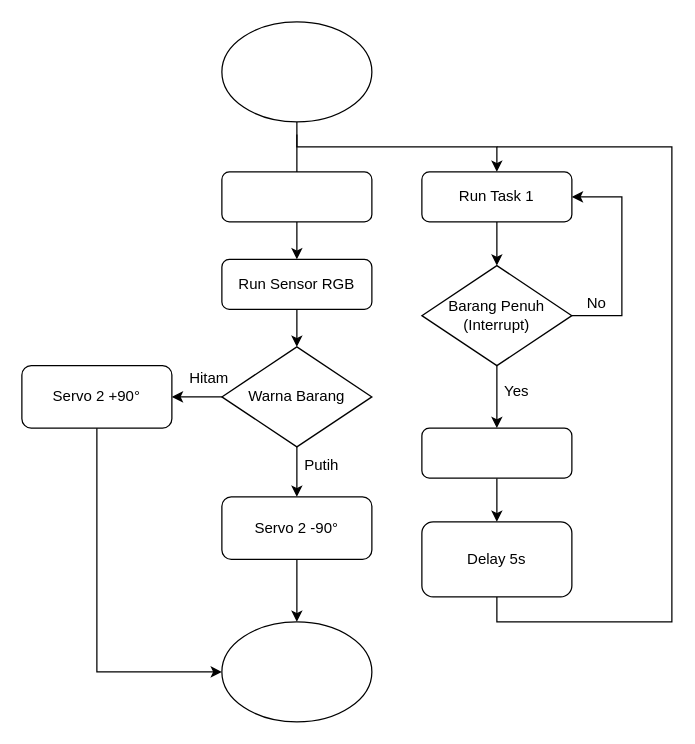
Image size: 695x744. Some labels were removed from this diagram. Here are the shapes that lost their labels. From the top down, the centre of each, then its label:
At (296,71): "Start".
At (296,196): "Run Motor Servo 1".
At (496,452): "Run Task 2".
At (296,671): "End".
